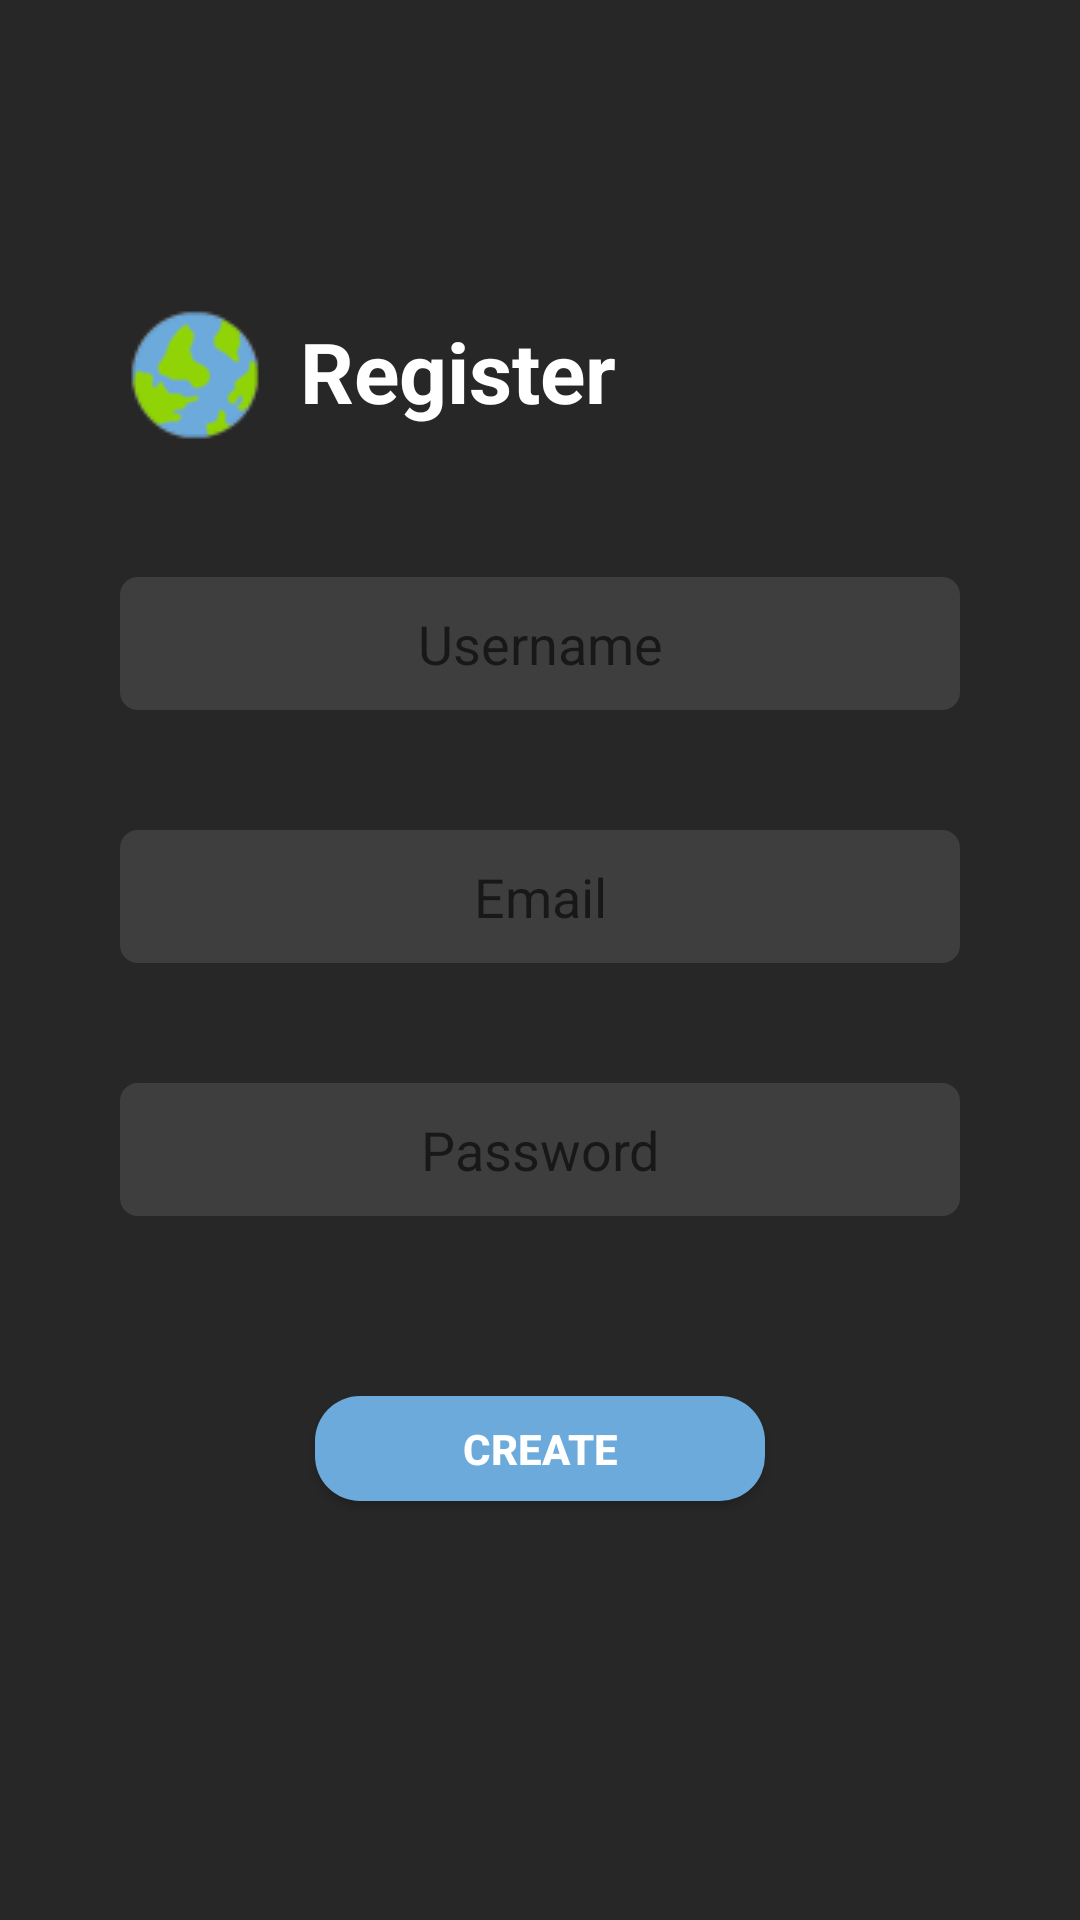

Named icons in this screenshot (1080px×1920px) and their bounding boxes, (x1, y1, x2, y2):
smallglobe: (131, 311, 259, 439)
